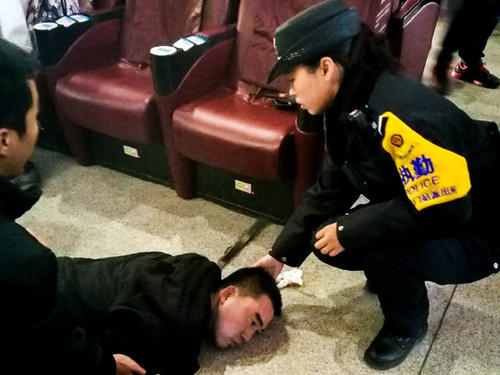fall: (5, 237, 291, 372)
